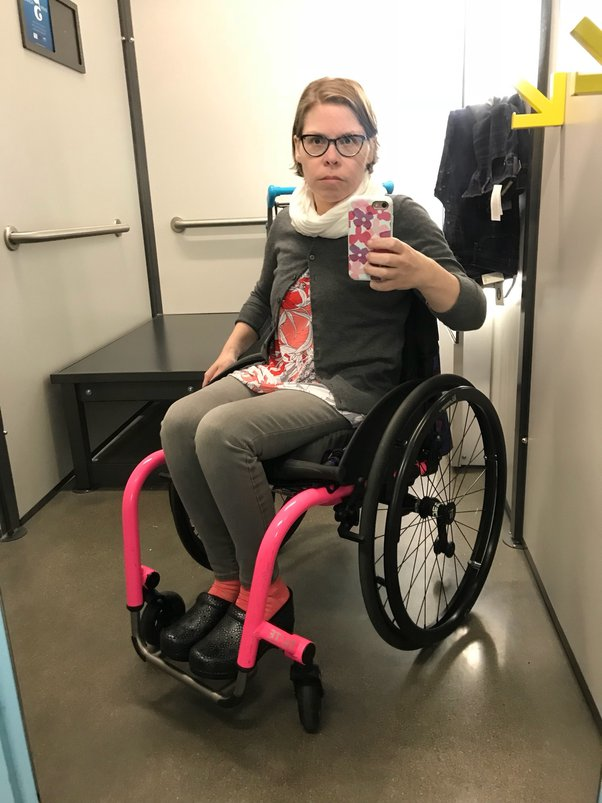wheelchair: (119, 73, 508, 739)
